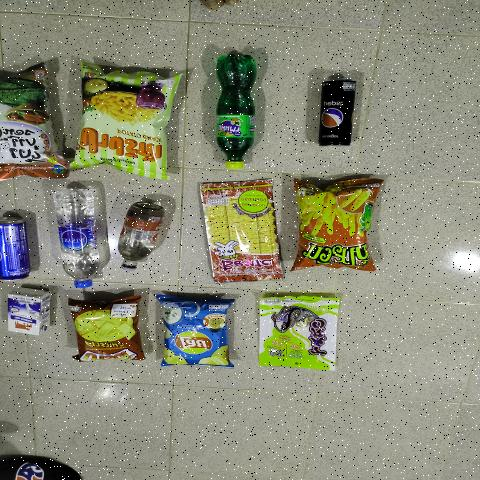bento_red: (197, 183, 279, 285)
crystal: (52, 182, 100, 291)
fanta_green: (218, 49, 256, 171)
lay_blue: (162, 297, 226, 369)
paprika: (82, 66, 176, 165)
party_red: (63, 302, 143, 365)
pepsi_black: (314, 74, 357, 152)
singha_soda: (120, 199, 166, 273)
taokaenoi: (0, 64, 60, 176)
taro_yellow: (260, 297, 336, 370)
thai_denmark: (8, 291, 53, 337)
twisco: (303, 188, 373, 268)
